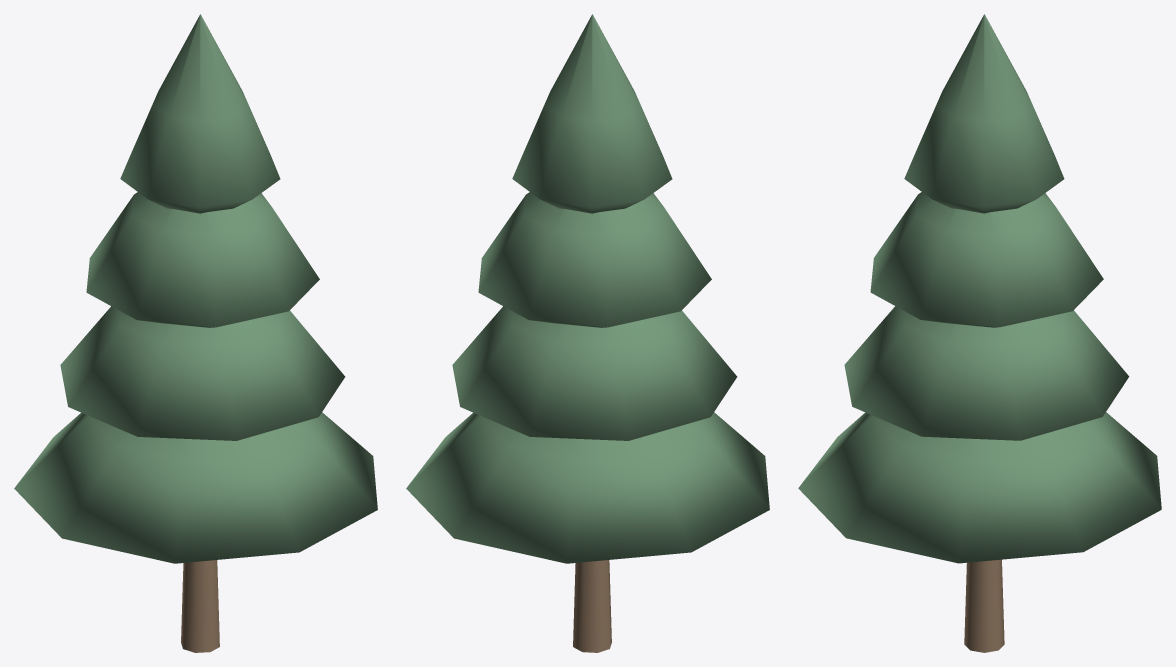
The model's file is Pine0.glb.
The picture shows the model from 3 angles, left to right: view 1: azimuth 30°, elevation 25°; view 2: azimuth 150°, elevation 25°; view 3: azimuth 270°, elevation 25°; orthographic projection.
Visible parts, largest first — view 1: Pine0; view 2: Pine0; view 3: Pine0.
Part boxes in pixels (x1,y1,x2,y2): Pine0: (14,14,377,652); Pine0: (406,14,769,652); Pine0: (798,14,1161,652).
Bounding box in the file's own units: 3.64 × 6.9 × 3.61.
